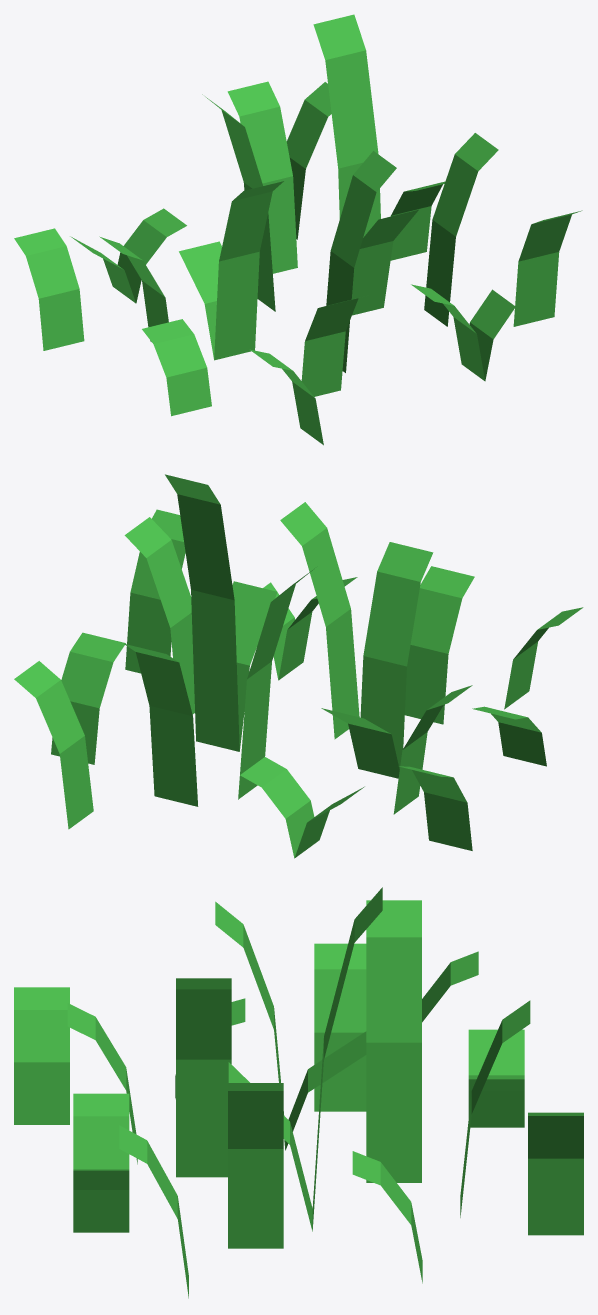
File: grass.gltf
3 renders of one model, top to bottom at view 1: azimuth 30°, elevation 25°; view 2: azimuth 150°, elevation 25°; view 3: azimuth 270°, elevation 25°, orthographic. The views are drawn at different scales.
Visible parts, largest first — view 1: grass_large; view 2: grass_large; view 3: grass_large.
Part boxes in pixels (x1,y1,x2,y2): grass_large: (14, 14, 582, 445); grass_large: (14, 474, 583, 858); grass_large: (14, 887, 583, 1298).
Size of the model in its own units: 4.14 by 2.57 by 4.13.
